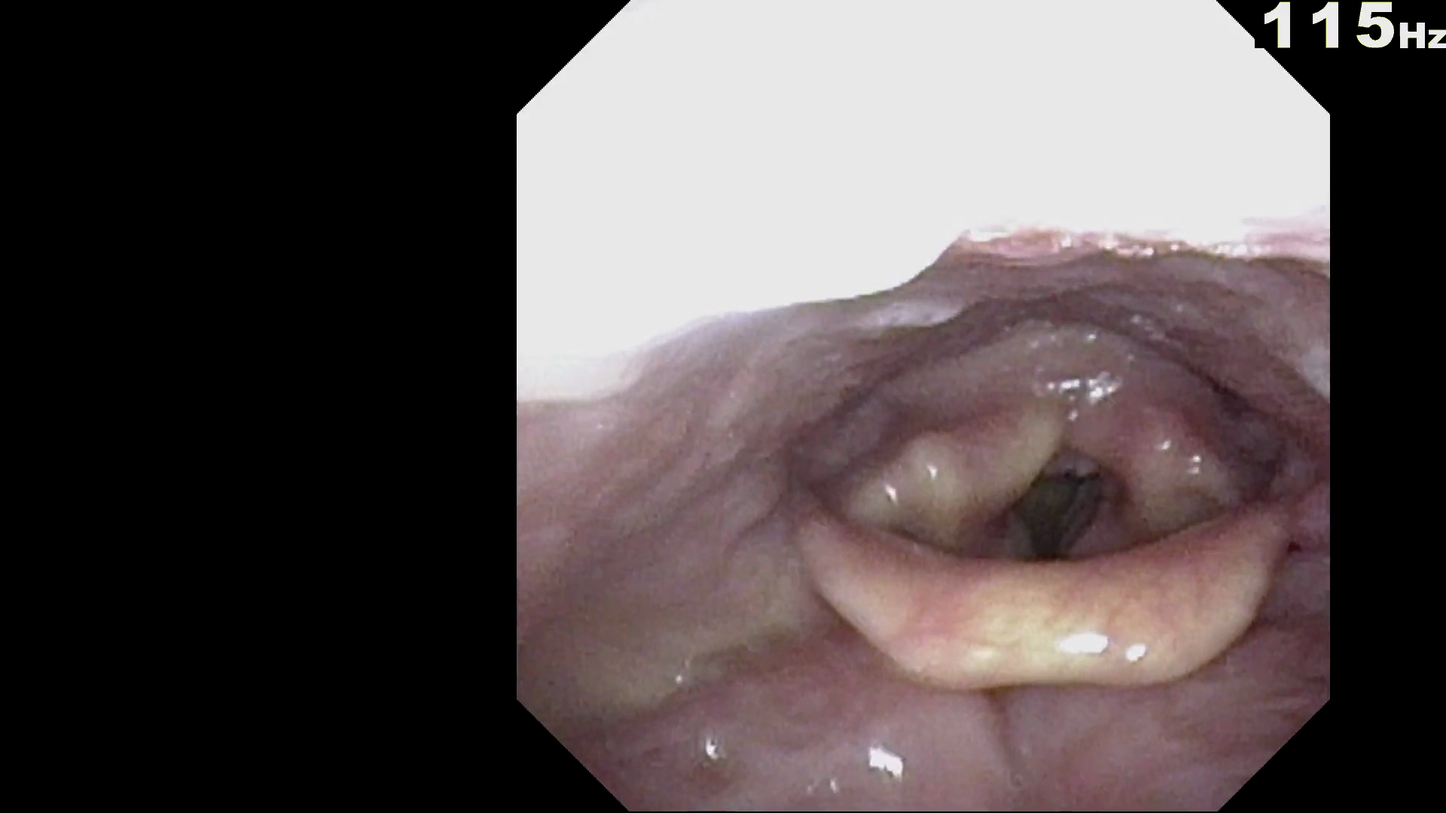epiglottis: (779, 467, 1304, 706)
trachea: (980, 415, 1127, 569)
